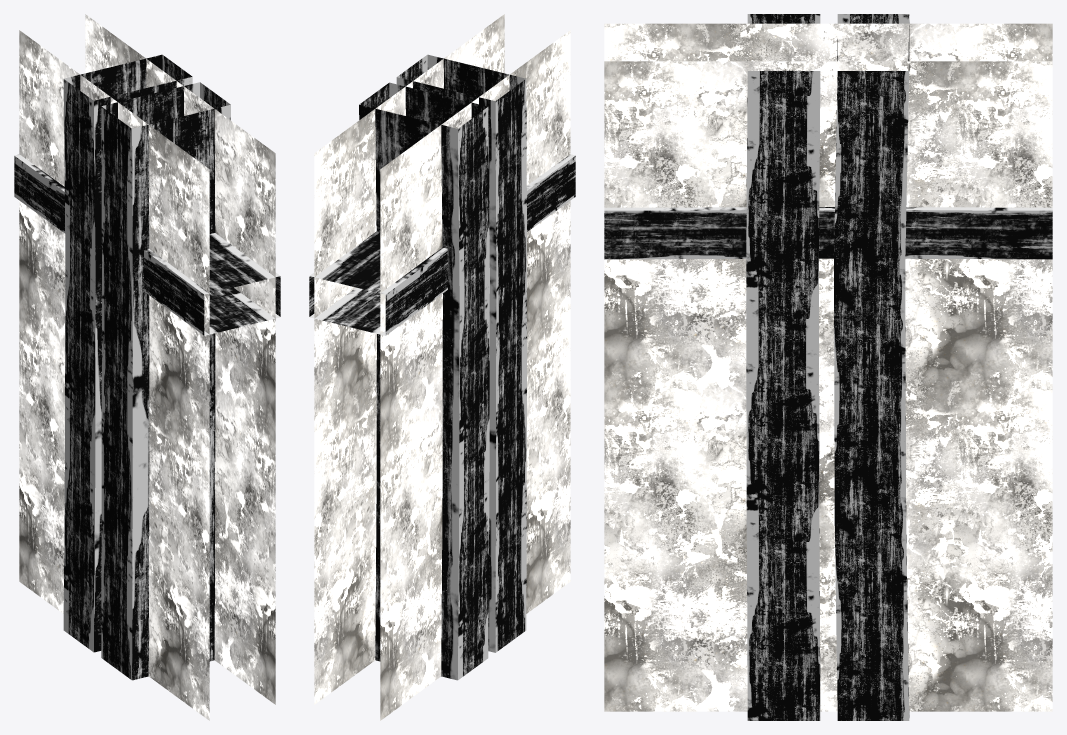
Rendered from SM_wall_A_2-5x4_02_02.fbx.
3 renders of one model, left to right at view 1: azimuth 30°, elevation 25°; view 2: azimuth 150°, elevation 25°; view 3: azimuth 270°, elevation 25°, orthographic. The views are drawn at different scales.
Visible parts, largest first — view 1: SM_wall_A_2-5x4_02_02_LOD0; view 2: SM_wall_A_2-5x4_02_02_LOD0; view 3: SM_wall_A_2-5x4_02_02_LOD0.
Part boxes in pixels (x1,y1,x2,y2): SM_wall_A_2-5x4_02_02_LOD0: [14, 14, 280, 720]; SM_wall_A_2-5x4_02_02_LOD0: [309, 14, 575, 720]; SM_wall_A_2-5x4_02_02_LOD0: [604, 14, 1052, 720].
Bounding box in the file's own units: 75 × 250 × 400.
3 materials, 3 textured.
